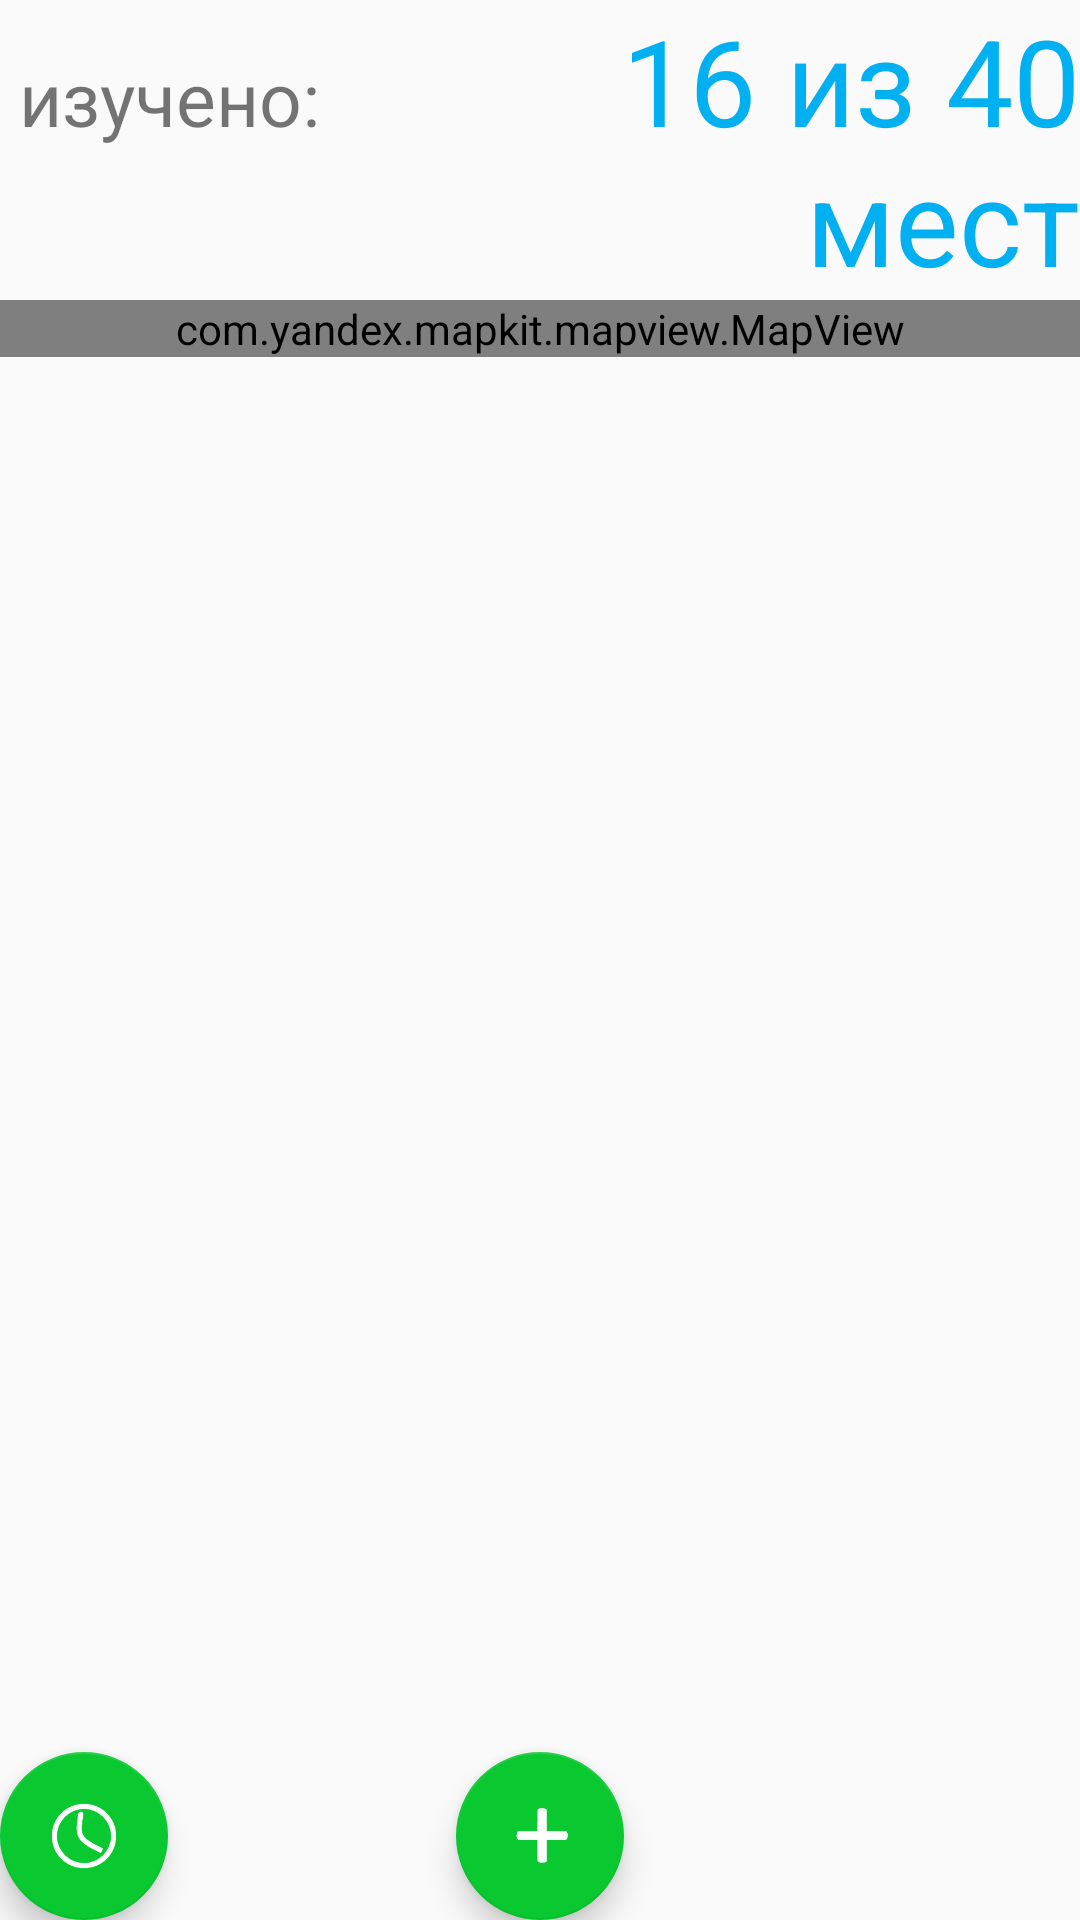

Icon click points for this 1080×1920 phone screenshot, format (x,y):
history: (84,1836)
splus: (540,1836)
